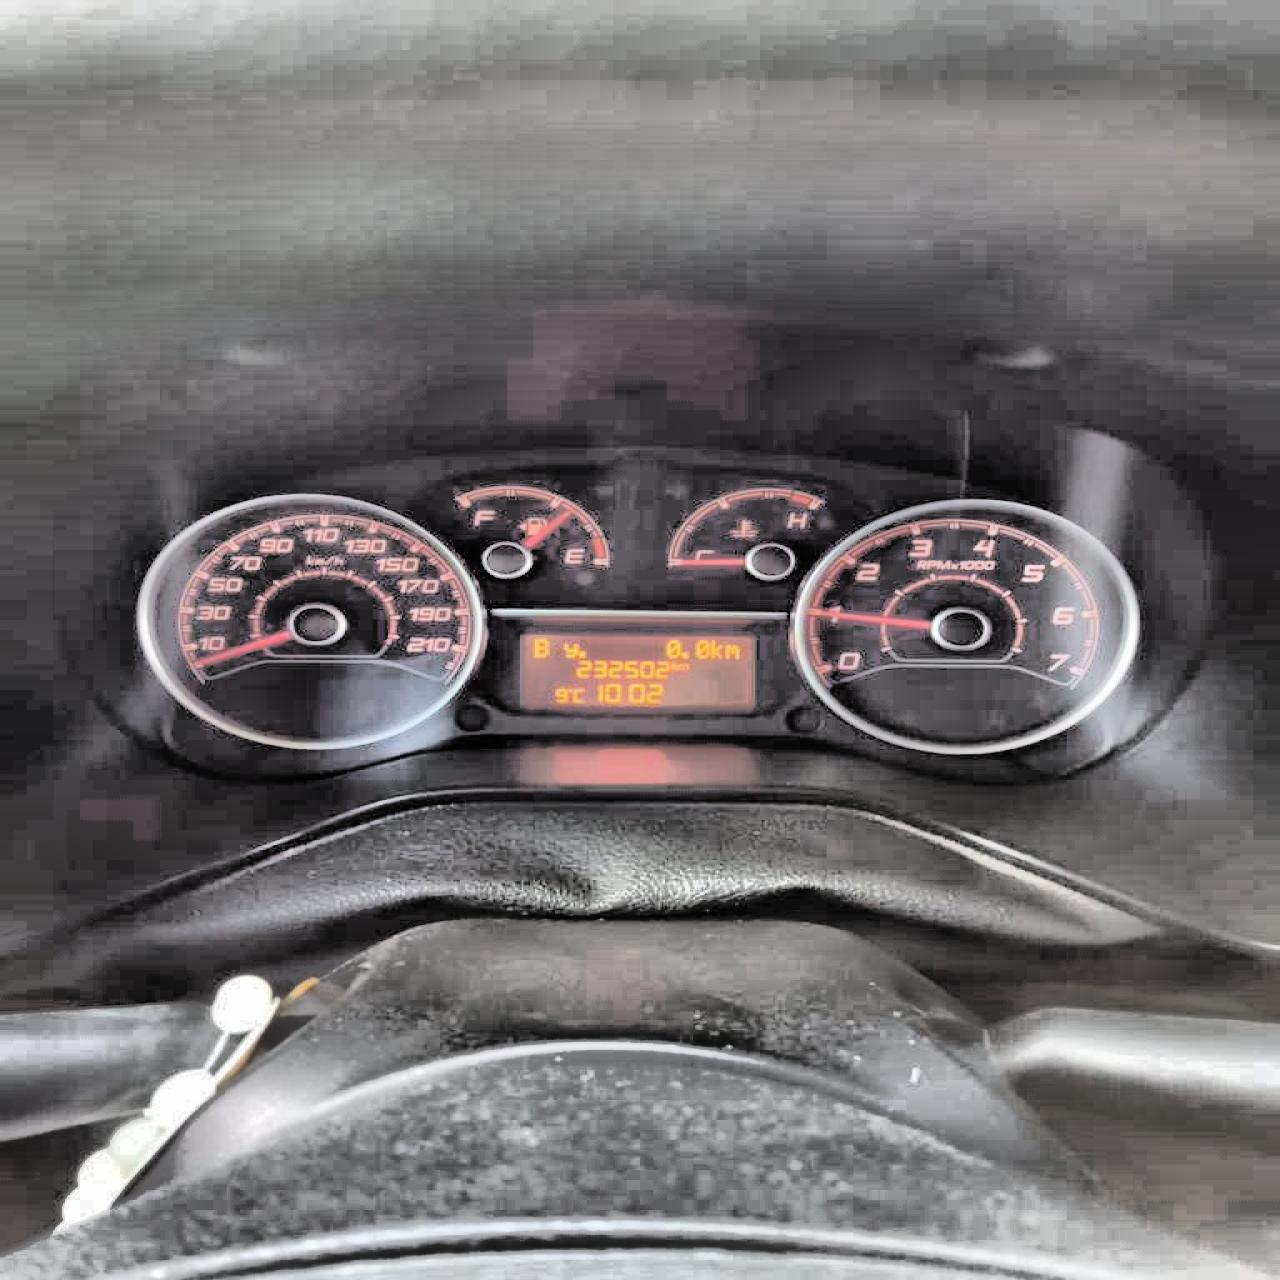-: (577, 648, 586, 658), (680, 649, 688, 659)
0: (627, 681, 644, 702), (665, 638, 680, 659), (604, 682, 620, 701), (694, 638, 708, 659), (639, 659, 654, 678)
1: (597, 682, 601, 702)
2: (645, 682, 662, 702), (573, 659, 590, 678), (606, 659, 621, 678), (655, 659, 668, 678)
3: (592, 659, 605, 678)
5: (624, 659, 636, 678)
9: (553, 687, 567, 702)
X: (532, 636, 549, 658), (723, 642, 740, 659), (710, 639, 722, 659), (564, 641, 577, 658), (572, 687, 584, 702), (676, 661, 688, 670), (668, 659, 676, 670)
odometer: (510, 627, 760, 715)
